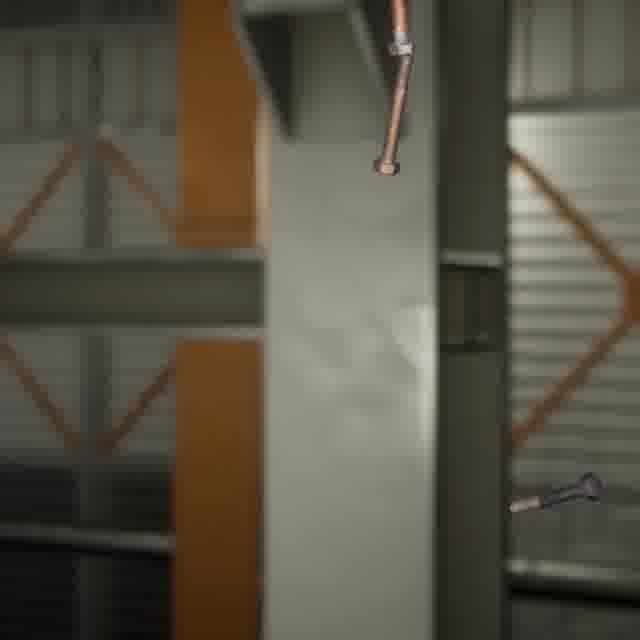bolt: (368, 48, 417, 178), (505, 467, 607, 518), (383, 0, 419, 59)
